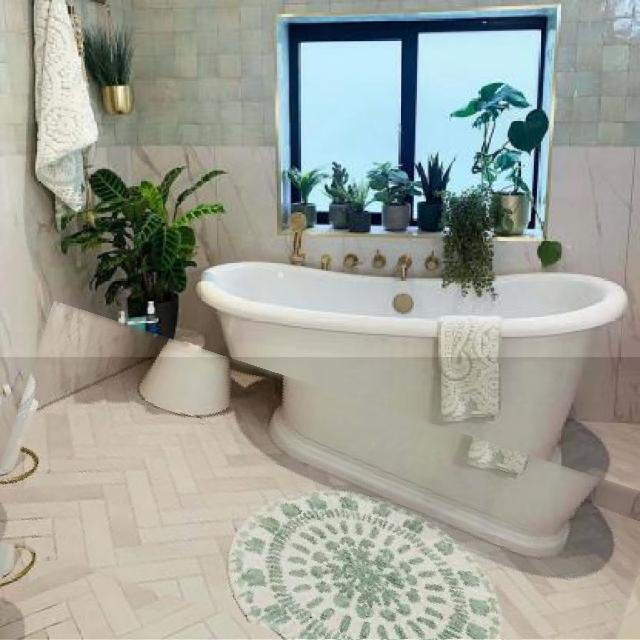floor: (0, 357, 640, 640)
